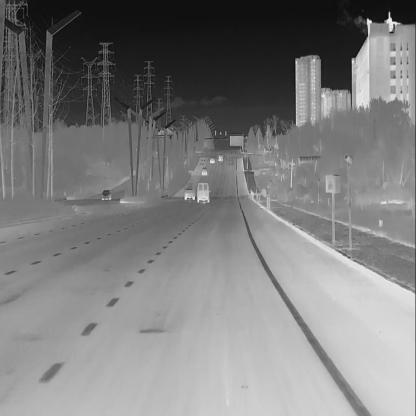car: (195, 180, 211, 204), (183, 185, 195, 201), (101, 188, 112, 201), (200, 166, 208, 176), (217, 153, 223, 162), (209, 156, 215, 164)
truck: (200, 166, 208, 176)
